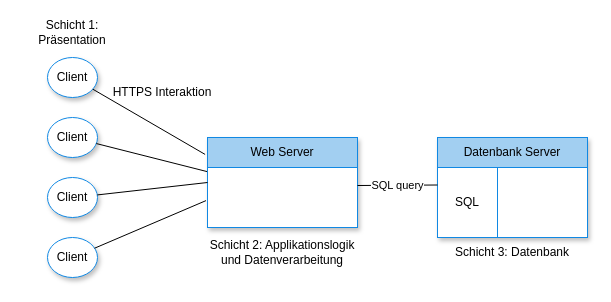
Image size: 611x302. Some labels were removed from this diagram. Each missing label, with the centre of its shape:
"Bereitstellung Kontendienst" belongs at (x=282, y=197).
"Kundenkonto Datenbank" belongs at (x=542, y=202).
